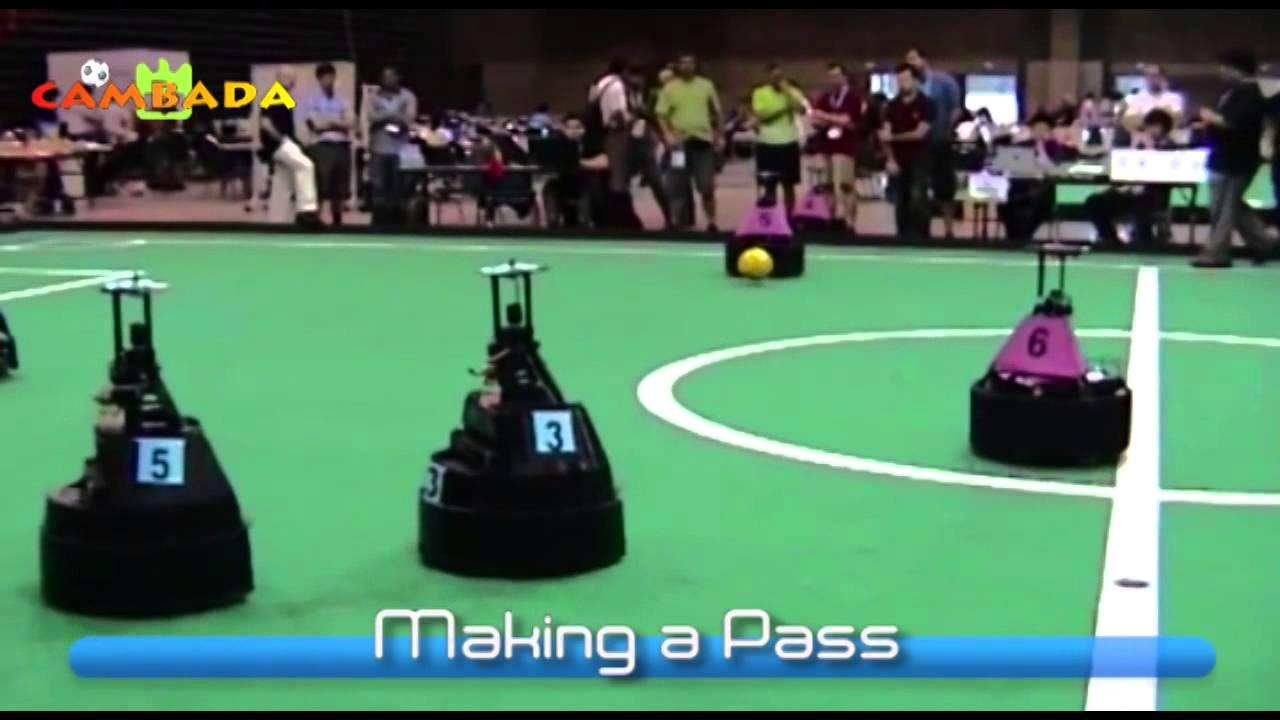robot: (27, 261, 262, 621), (408, 250, 630, 582), (950, 228, 1138, 470), (715, 163, 818, 281)
